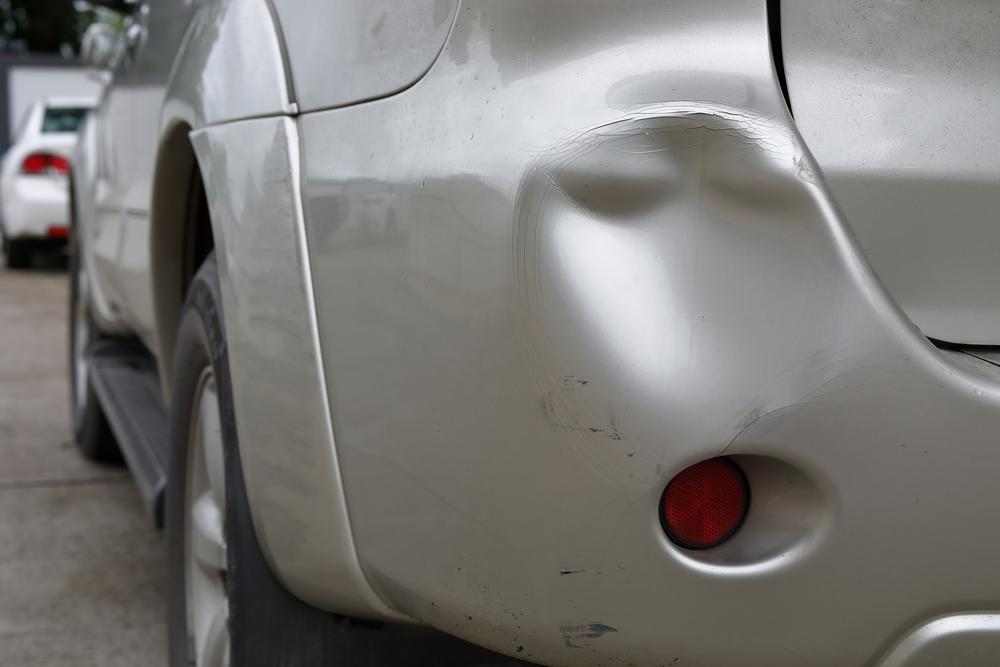dent: (538, 109, 842, 436)
scratch: (550, 561, 621, 661)
